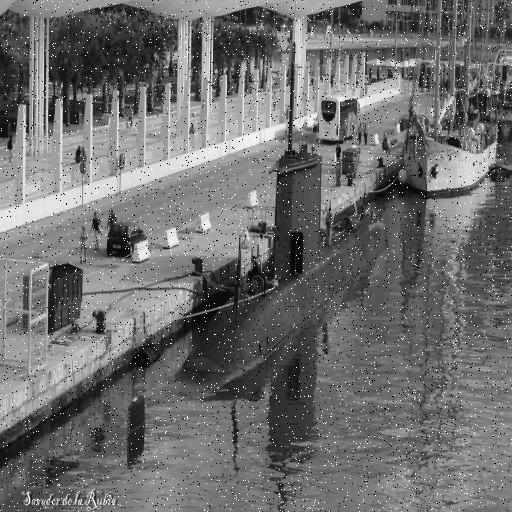submarine: (174, 145, 391, 389)
